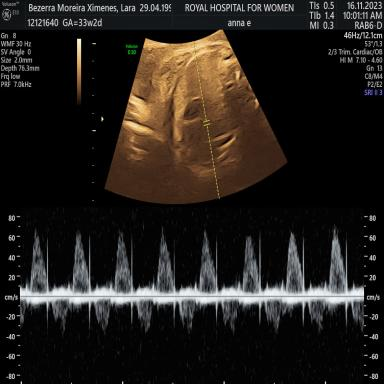Ultrasound-Waves: (24, 205, 361, 384)
